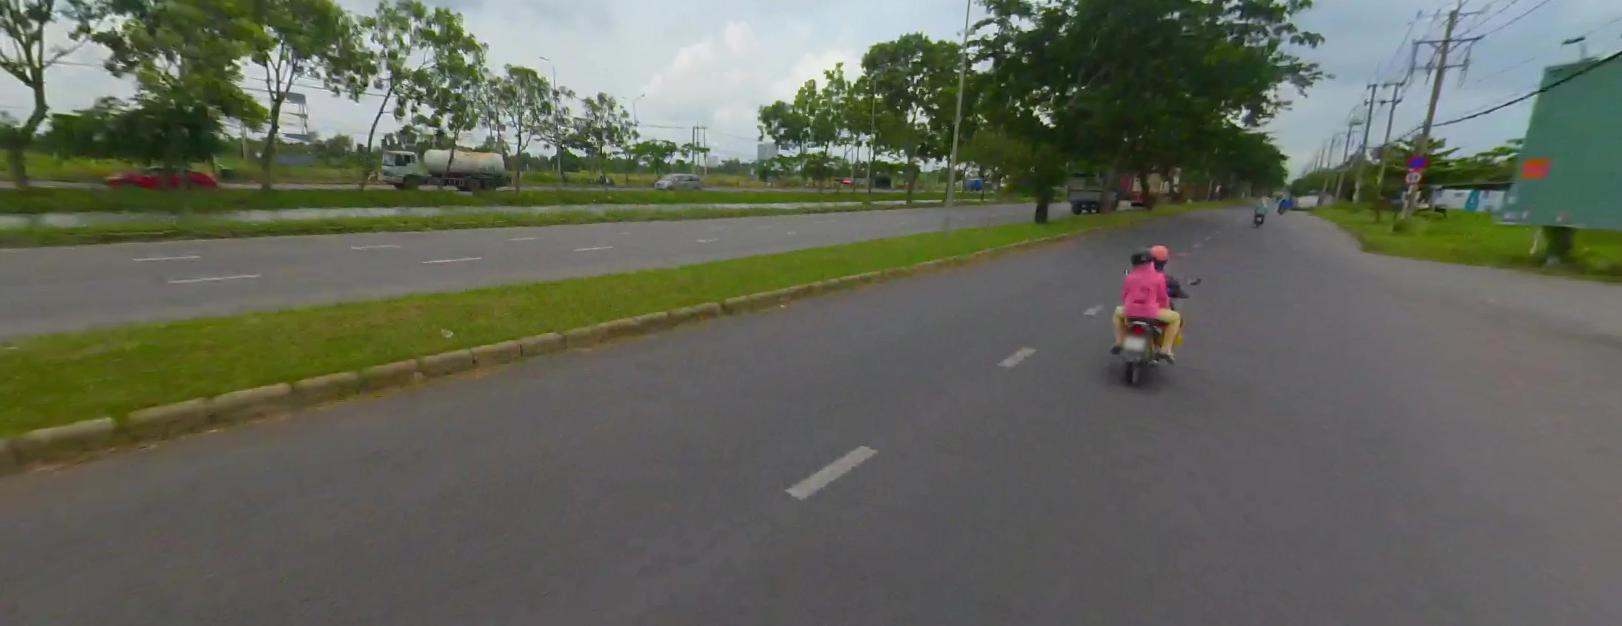Cam dung va do: (1407, 152, 1426, 169)
Gioi han toc do: (1404, 170, 1422, 182)
